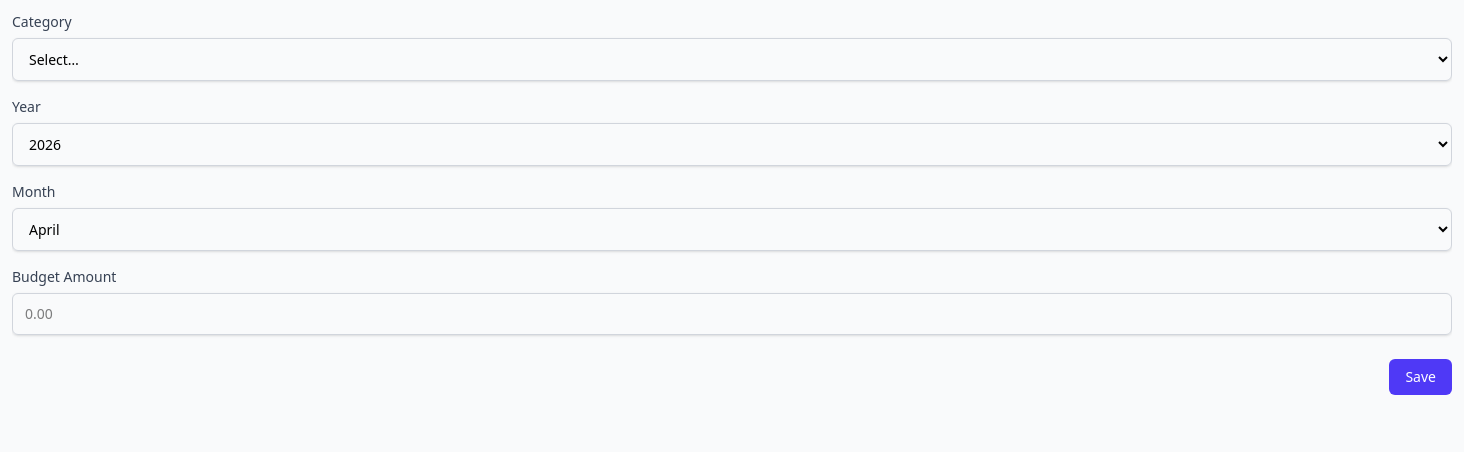
Scenario: BudgetForm › shows error when amount is 0
Type "0" into the number field labelled "Budget Amount".
click(732, 314); type("0")  # box [12,293,1452,335]
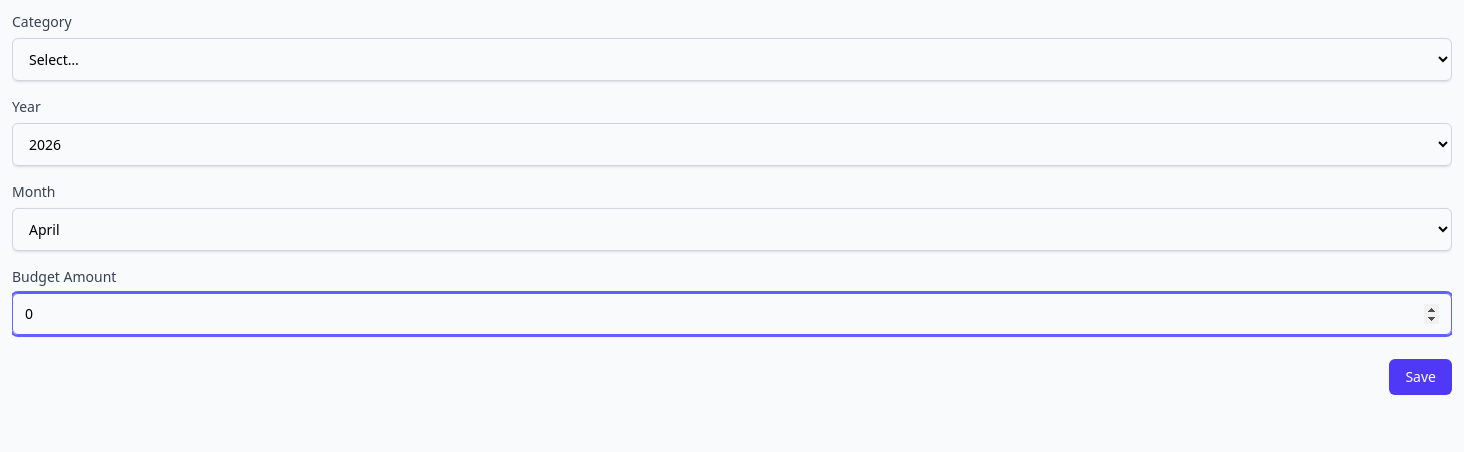
Click the button "Save".
click(1421, 377)  # box [1389,359,1452,395]
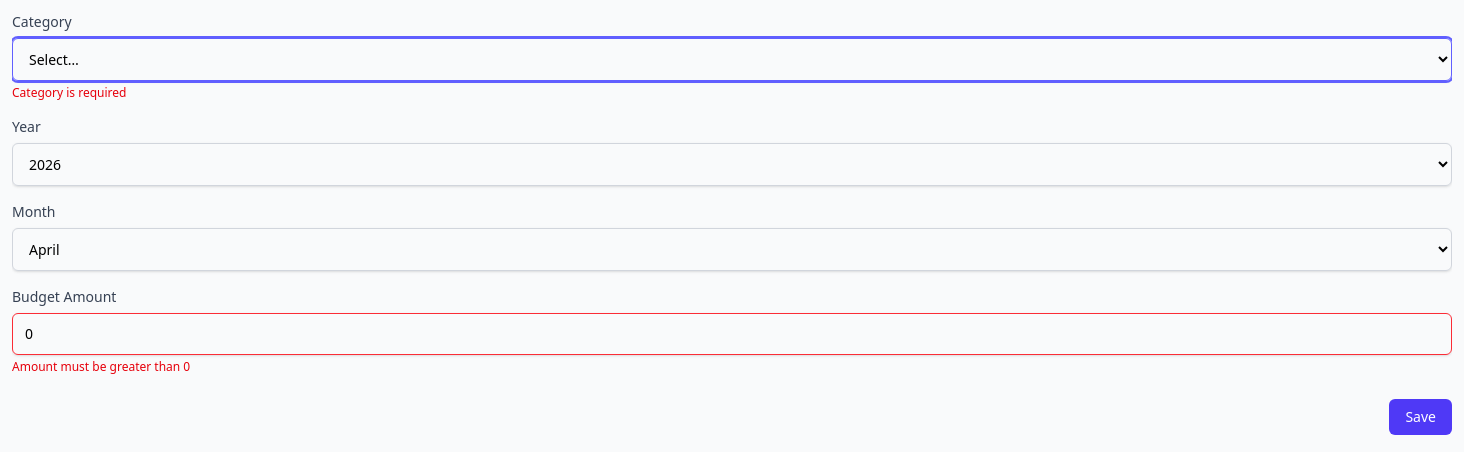
Check: the text "Amount must be greater than 0" is shown, box [12,358,190,375]
